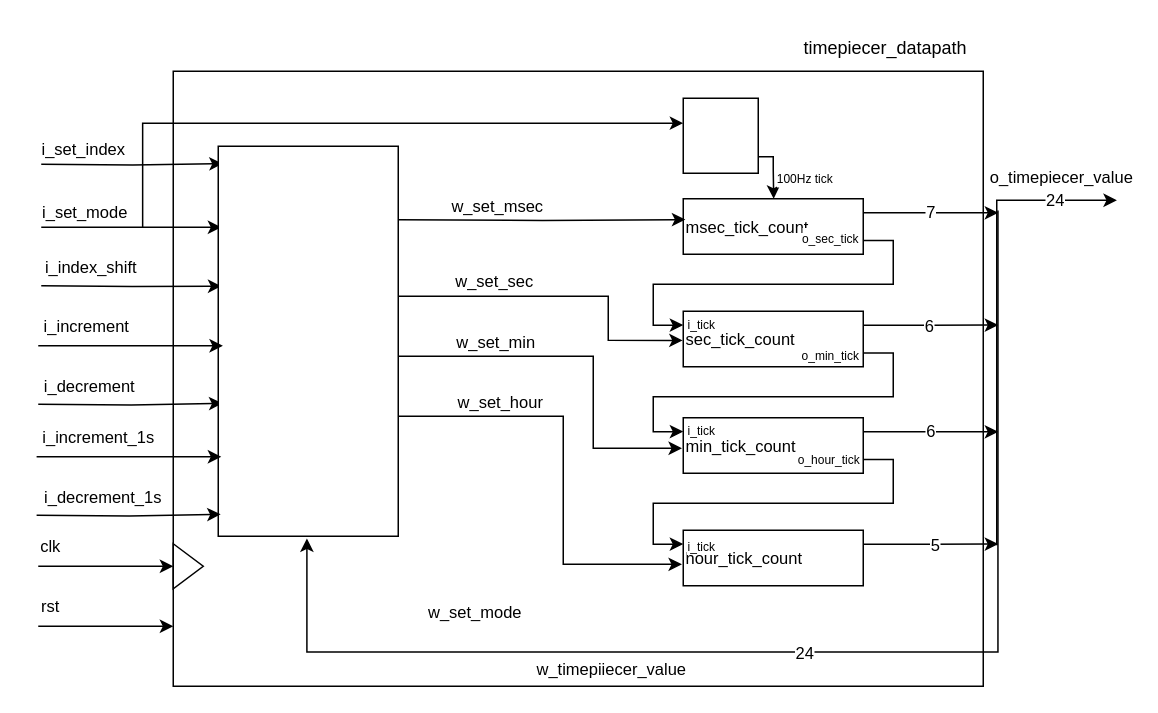
Some shapes in this 1158 by 713 pixel diagram are drawn without their labels. Here are the shapes that lost their labels. From the top down, the centre of each, then its label:
the point at 720,135: tick_gen _100hz
the point at 307,340: time_set_module
